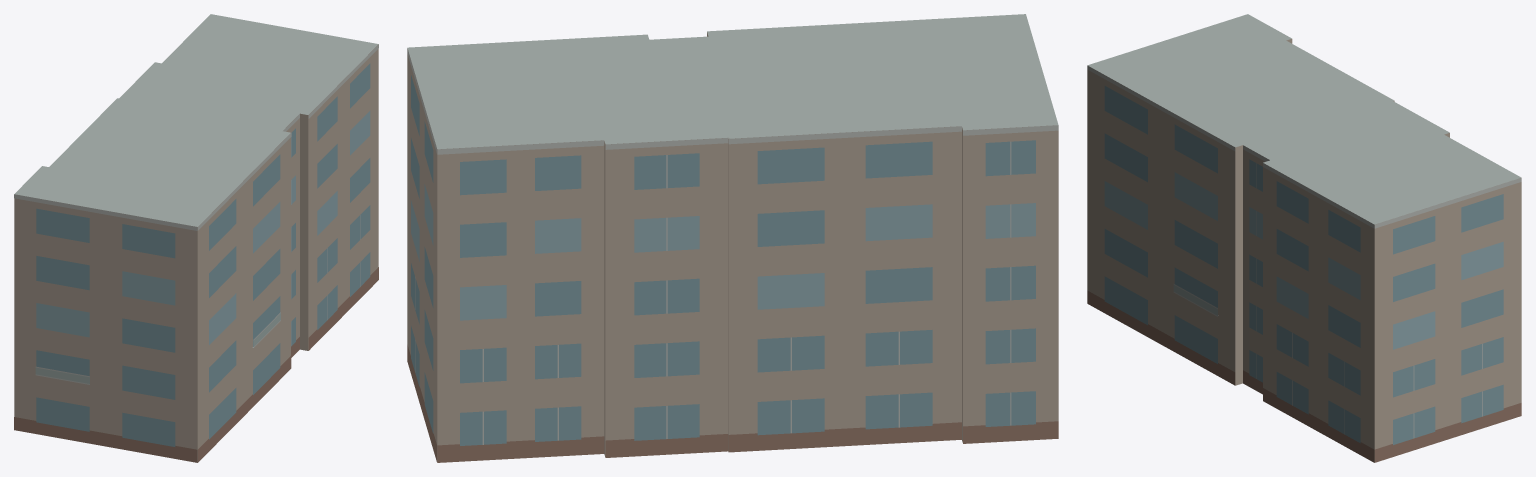
Rendered from survey-upis-32655824.glb.
3 views of the same model, side by side, from view 1: azimuth 30°, elevation 25°; view 2: azimuth 150°, elevation 25°; view 3: azimuth 270°, elevation 25° (orthographic). The views are drawn at different scales.
Visible parts, largest first — view 1: survey-upis-32655824.tmp; view 2: survey-upis-32655824.tmp; view 3: survey-upis-32655824.tmp.
Boxes of the visible parts, <box> form: survey-upis-32655824.tmp: <box>14,14,378,462</box>; survey-upis-32655824.tmp: <box>407,14,1058,462</box>; survey-upis-32655824.tmp: <box>1087,14,1521,462</box>.
Bounding box in the file's own units: 26.45 × 13.95 × 23.05.
